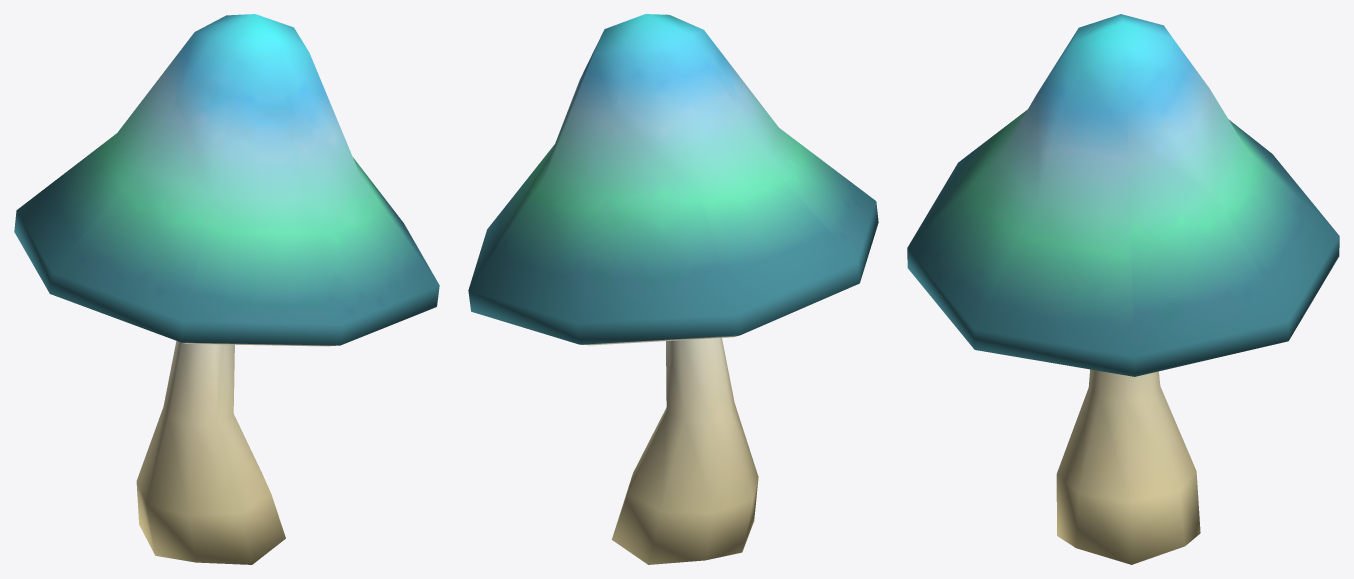
Rendered from mushroom2.glb.
The picture shows the model from 3 angles, left to right: view 1: azimuth 30°, elevation 25°; view 2: azimuth 150°, elevation 25°; view 3: azimuth 270°, elevation 25°; orthographic projection. The views are drawn at different scales.
Size of the model in its own units: 0.258 by 0.3629 by 0.2584.
1 material, 1 textured.
